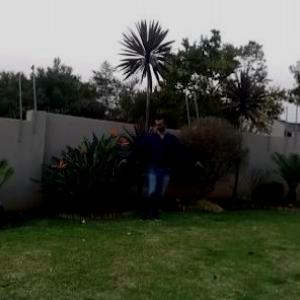land: (107, 106, 205, 230)
